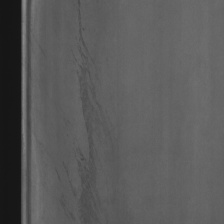water_spot: (63, 0, 105, 220)
